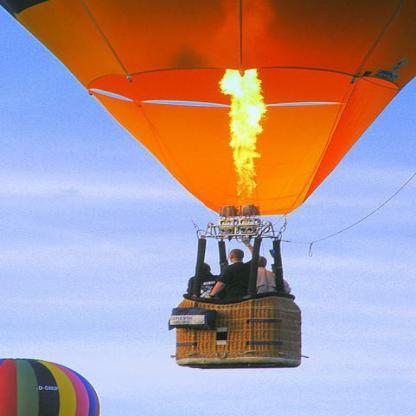fire: (207, 66, 270, 212)
